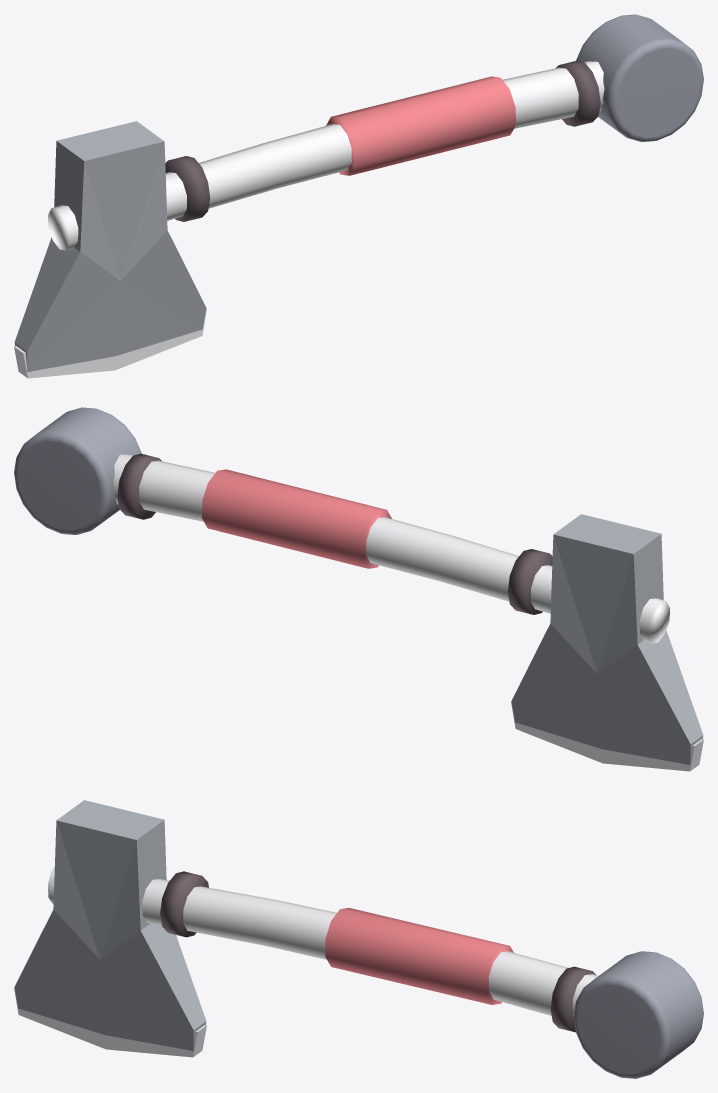
Rendered from LogJamAxe.glb.
The picture shows the model from 3 angles, top to bottom: view 1: azimuth 30°, elevation 25°; view 2: azimuth 150°, elevation 25°; view 3: azimuth 330°, elevation 25°; orthographic projection.
Parts seen in each view (by area): view 1: Head, Handle, Collar, Grip, Bands, Edge; view 2: Head, Handle, Collar, Grip, Bands, Edge; view 3: Head, Collar, Handle, Grip, Bands, Edge.
Boxes of the visible parts, x1,y1,x2,y2 form: Head: [14, 121, 206, 372]; Handle: [47, 61, 604, 250]; Collar: [576, 14, 703, 141]; Grip: [326, 76, 515, 175]; Bands: [165, 60, 600, 221]; Edge: [14, 308, 206, 378]; Head: [511, 514, 703, 765]; Handle: [113, 454, 670, 643]; Collar: [14, 407, 141, 534]; Grip: [202, 469, 391, 568]; Bands: [117, 453, 552, 614]; Edge: [511, 701, 703, 771]; Head: [14, 800, 206, 1051]; Collar: [573, 951, 703, 1078]; Handle: [47, 867, 598, 1016]; Grip: [325, 908, 513, 1004]; Bands: [160, 871, 595, 1032]; Edge: [14, 987, 206, 1057].
Size of the model in its own units: 5.82 by 1.88 by 0.6.
